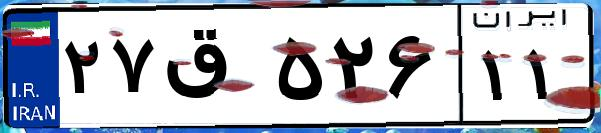1: (475, 38, 525, 113), (525, 38, 570, 115)
2: (330, 28, 385, 110), (57, 26, 110, 100)
5: (270, 28, 330, 110)
6: (385, 28, 445, 110)
7: (110, 28, 158, 98)
ق: (158, 20, 270, 120)
